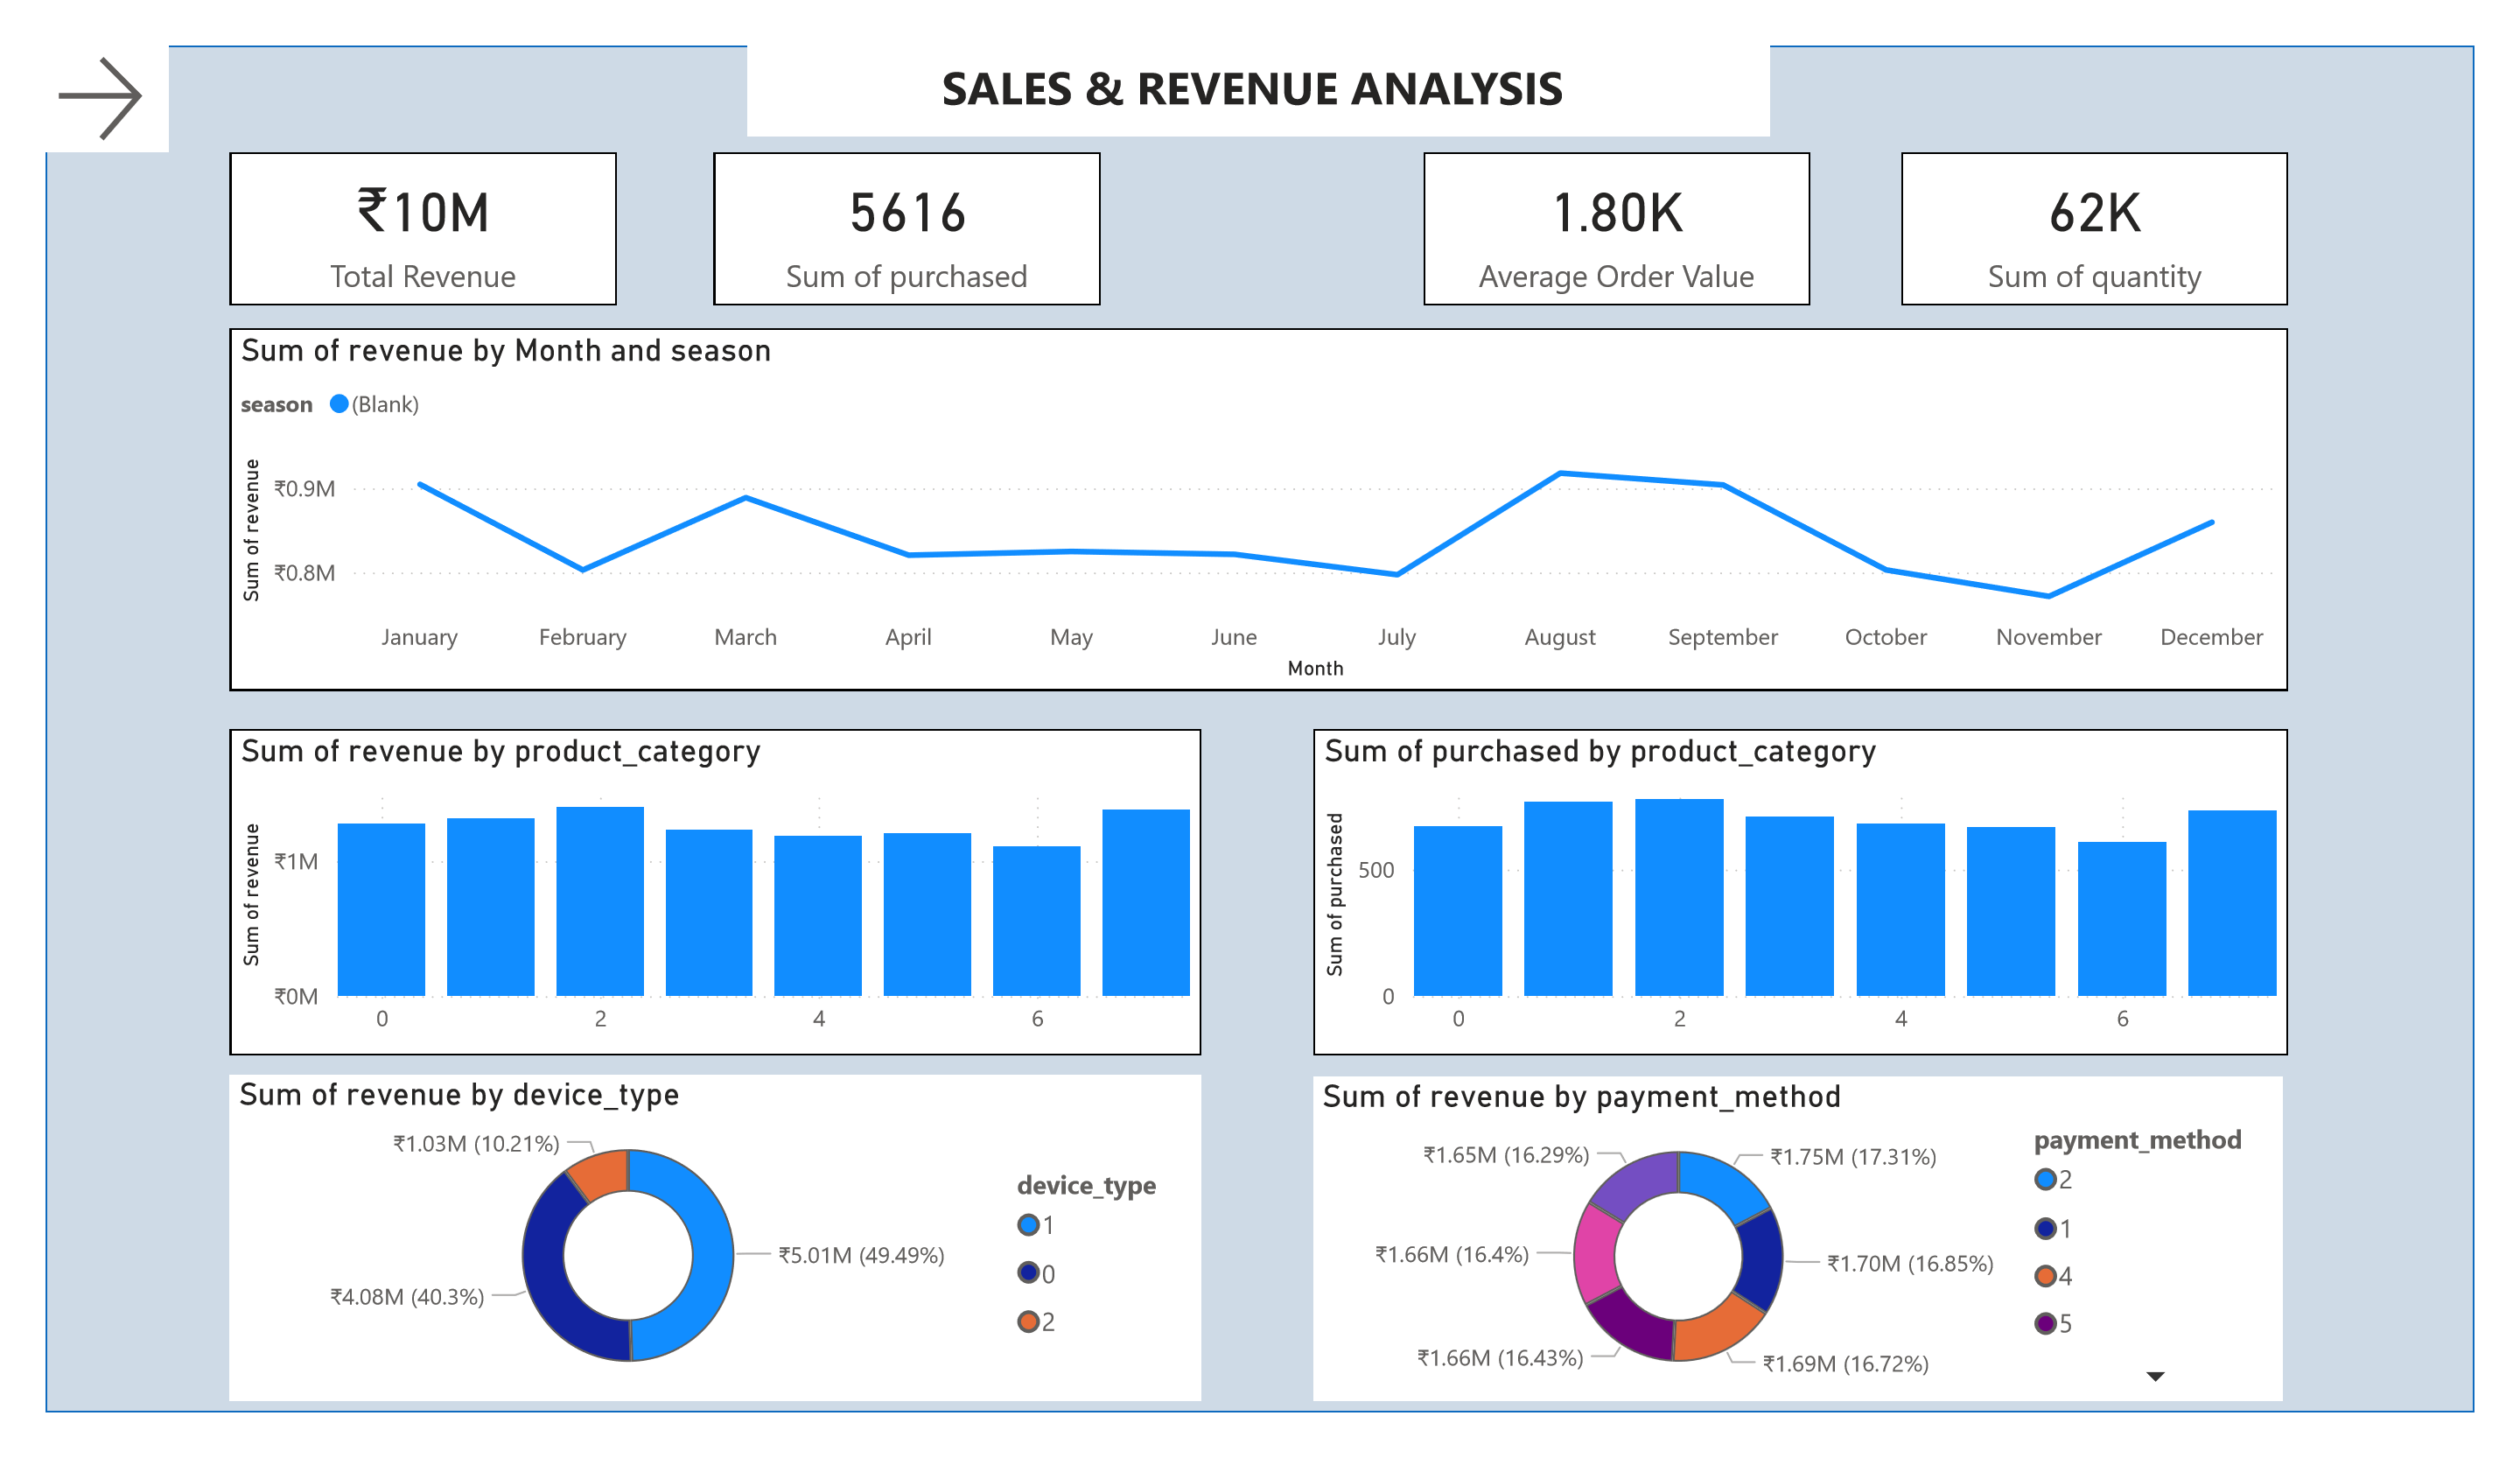

The page's visual inventory and layout, read from the dashboard file:
{"tool":"powerbi","page":{"name":"Page 2","canvas":[1280,720],"ordinal":1},"visuals":[{"type":"shape","box":[0,0,1279.6,720.2],"z":0},{"type":"card","fields":{"Values":["Measures (2).Total Revenue"]},"box":[96.7,55.6,204.2,81],"z":1000},{"type":"card","fields":{"Values":["Sum(gold fact_session.purchased)"]},"box":[351.6,55.6,204.2,81],"z":2000},{"type":"card","fields":{"Values":["Measures (2).Average Order Value"]},"box":[726.2,55.6,204.2,81],"z":3000},{"type":"card","fields":{"Values":["Sum(gold fact_session.quantity)"]},"box":[977.5,55.6,204.2,81],"z":4000},{"type":"lineChart","fields":{"Y":["Sum(gold fact_session.revenue)"],"Series":["gold dim_date.season"],"Category":["gold dim_date.full_date.Variation.Date Hierarchy.Month"]},"box":[96.7,148.6,1085.1,190.9],"z":5000},{"type":"clusteredColumnChart","fields":{"Category":["gold dim_product.product_category"],"Y":["Sum(gold fact_session.revenue)"]},"box":[96.7,360.1,512.3,171.6],"z":6000},{"type":"clusteredColumnChart","fields":{"Category":["gold dim_product.product_category"],"Y":["Sum(gold fact_session.purchased)"]},"box":[668.2,360.1,513.5,171.6],"z":7000},{"type":"donutChart","fields":{"Category":["gold dim_device.device_type"],"Y":["Sum(gold fact_session.revenue)"]},"box":[97,542,512,172],"z":8000},{"type":"donutChart","fields":{"Category":["gold dim_payment.payment_method"],"Y":["Sum(gold fact_session.revenue)"]},"box":[668.2,542.5,511.1,171.6],"z":9000},{"type":"textbox","box":[369.7,0,538.9,48.3],"z":10000}]}

Visuals, with their boxes in screenshot pixels (x1, y1, x2, y2), scaled from the page's 1280x720 canvas onto the 2520x1458 screenshot:
shape: detection(0, 0, 2519, 1457)
card - Measures (2).Total Revenue: detection(191, 113, 592, 277)
card - Sum(gold fact_session.purchased): detection(692, 113, 1095, 277)
card - Measures (2).Average Order Value: detection(1430, 113, 1831, 277)
card - Sum(gold fact_session.quantity): detection(1924, 113, 2327, 277)
lineChart - Sum(gold fact_session.revenue) x gold dim_date.season: detection(191, 301, 2327, 688)
clusteredColumnChart - gold dim_product.product_category x Sum(gold fact_session.revenue): detection(191, 729, 1199, 1076)
clusteredColumnChart - gold dim_product.product_category x Sum(gold fact_session.purchased): detection(1315, 729, 2327, 1076)
donutChart - gold dim_device.device_type x Sum(gold fact_session.revenue): detection(191, 1097, 1199, 1446)
donutChart - gold dim_payment.payment_method x Sum(gold fact_session.revenue): detection(1315, 1098, 2321, 1446)
textbox: detection(728, 0, 1788, 98)
